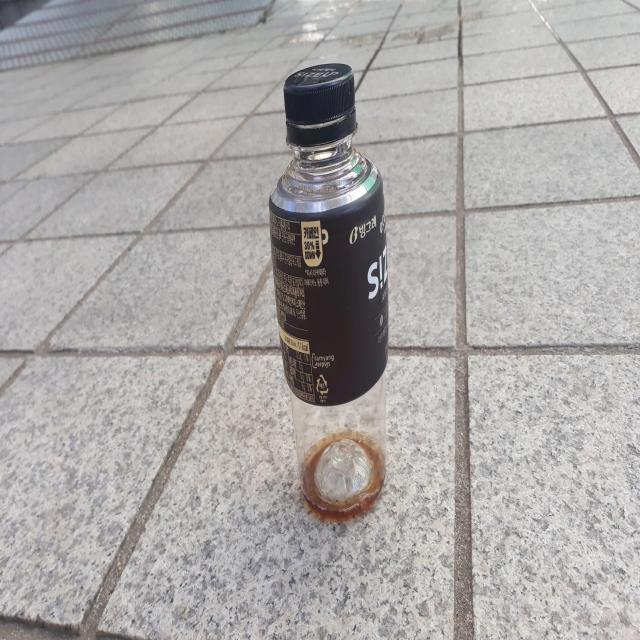plastic: (269, 62, 389, 518)
